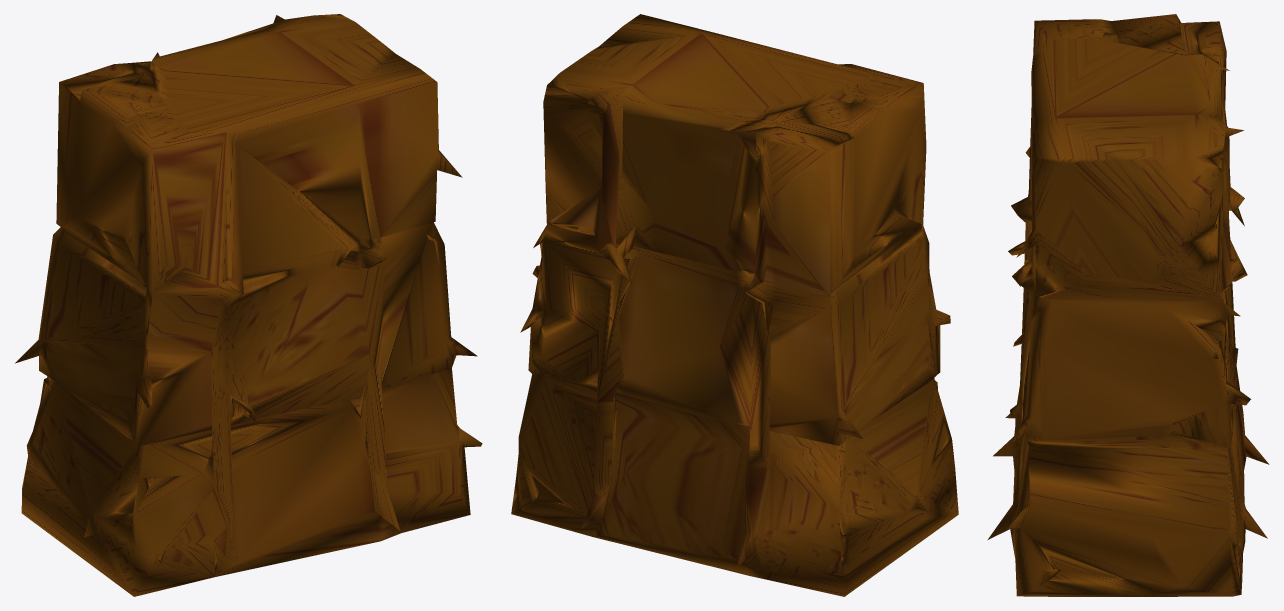
The model's file is hay_bale.glb.
The picture shows the model from 3 angles, left to right: view 1: azimuth 30°, elevation 25°; view 2: azimuth 150°, elevation 25°; view 3: azimuth 270°, elevation 25°; orthographic projection.
Size of the model in its own units: 0.8162 by 0.9742 by 0.5698.
Materials: 1 (1 with a texture image).
